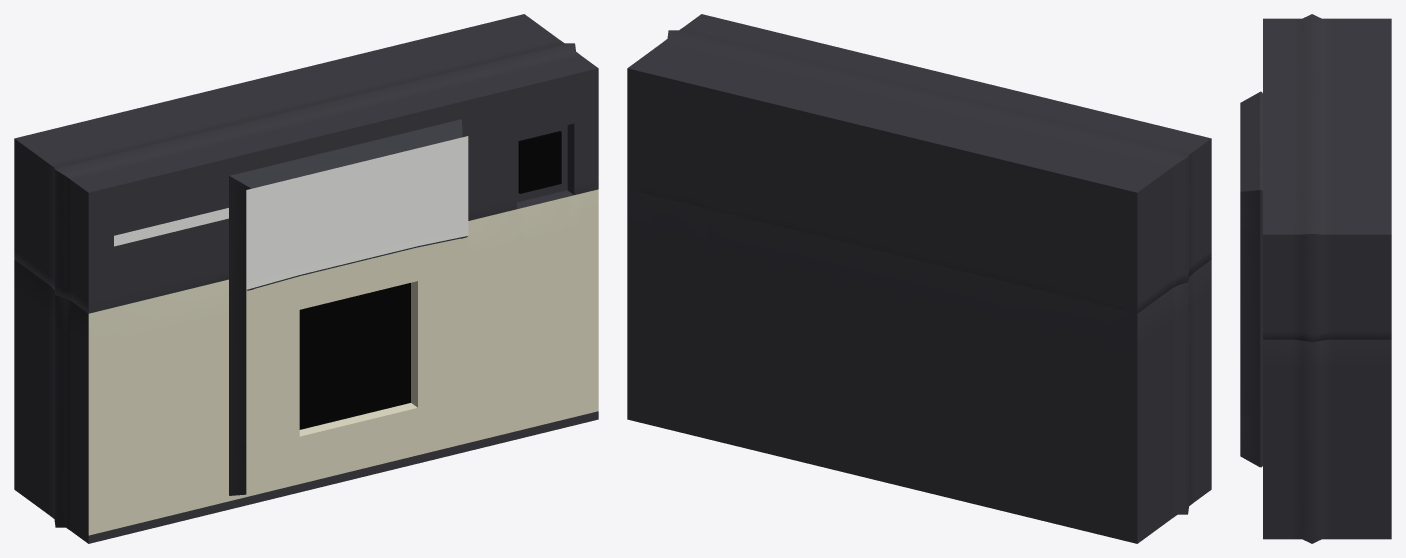
File: majesticCamera.gltf
The picture shows the model from 3 angles, left to right: view 1: azimuth 30°, elevation 25°; view 2: azimuth 150°, elevation 25°; view 3: azimuth 270°, elevation 25°; orthographic projection. The views are drawn at different scales.
Visible parts, largest first — view 1: majesticCamera; view 2: majesticCamera; view 3: majesticCamera.
Part boxes in pixels (bbox=[...]): majesticCamera: bbox=[14, 14, 598, 543]; majesticCamera: bbox=[627, 14, 1211, 543]; majesticCamera: bbox=[1240, 14, 1391, 543].
Size of the model in its own units: 0.1989 by 0.1309 by 0.0579.
